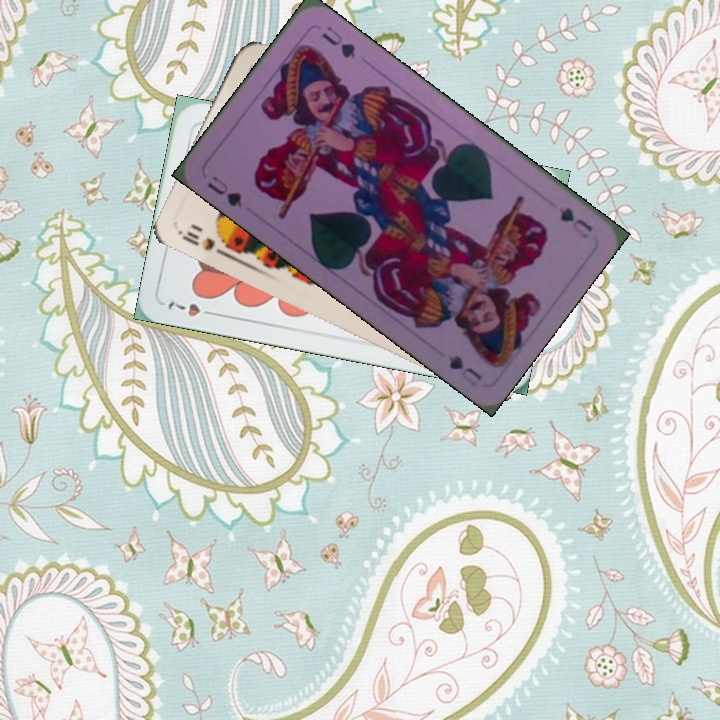GU: (555, 202, 596, 242), (203, 171, 245, 209)
H7: (164, 297, 220, 320)
S10: (175, 226, 231, 260)
